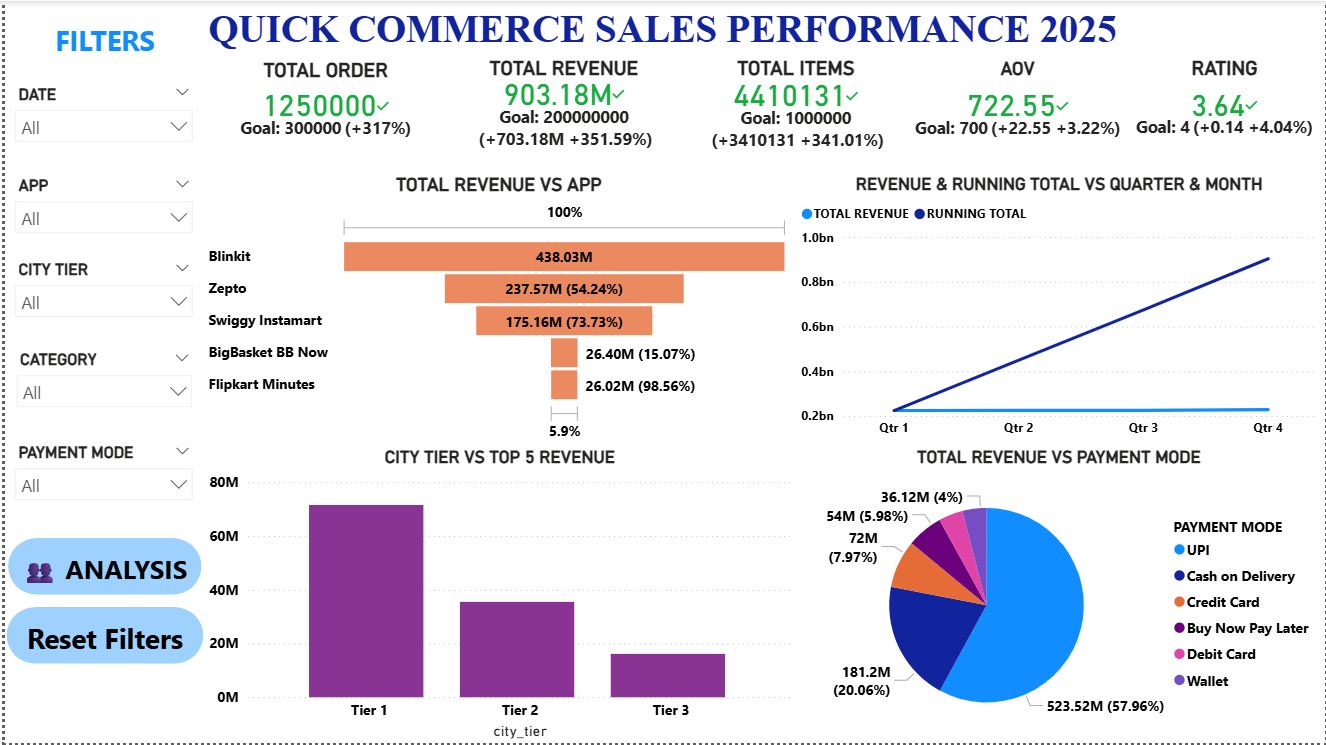

The page's visual inventory and layout, read from the dashboard file:
{"tool":"powerbi","page":{"name":"Home","canvas":[1280,720],"ordinal":0},"visuals":[{"type":"slicer","fields":{"Values":["qcommerce_orders_2025.app"]},"box":[0,217.3,192,72],"z":0},{"type":"slicer","fields":{"Values":["qcommerce_orders_2025.city_tier","qcommerce_orders_2025.city"]},"box":[0,299.3,192,72],"z":1000},{"type":"slicer","fields":{"Values":["qcommerce_orders_2025.category"]},"box":[2,387.3,190,74],"z":2000},{"type":"slicer","fields":{"Values":["DATE.Date.Variation.Date Hierarchy.Quarter","DATE.Date.Variation.Date Hierarchy.Month","DATE.Date.Variation.Date Hierarchy.Day"]},"box":[0,129.3,192,74],"z":3000},{"type":"textbox","box":[215,0,873.3,47],"z":4000},{"type":"kpi","title":"RATING","fields":{"Indicator":["calculations.RATING"],"TrendLine":["DATE.Date.Variation.Date Hierarchy.Year"],"Goal":["Targets.RATING T"]},"box":[1075.9,55.4,192.4,94.8],"z":5000},{"type":"kpi","title":"TOTAL ORDER ","fields":{"Indicator":["calculations.TOTAL ORDER"],"TrendLine":["DATE.Date.Variation.Date Hierarchy.Year"],"Goal":["Targets.TOT"]},"box":[212.8,55.4,192.4,94.8],"z":6000},{"type":"kpi","title":"TOTAL REVENUE ","fields":{"Indicator":["calculations.TOTAL REVENUE"],"TrendLine":["DATE.Date.Variation.Date Hierarchy.Year"],"Goal":["Targets.TR TARGET"]},"box":[425.7,55.4,207,94.8],"z":7000},{"type":"kpi","title":"TOTAL ITEMS","fields":{"Indicator":["calculations.TOTAL ITEMS"],"TrendLine":["DATE.Date.Variation.Date Hierarchy.Year"],"Goal":["Targets.TIT"]},"box":[653.1,55.4,191,94.8],"z":8000},{"type":"kpi","title":"AOV ","fields":{"Indicator":["calculations.AOV"],"TrendLine":["DATE.Date.Variation.Date Hierarchy.Year"],"Goal":["Targets.AOVT"]},"box":[864.5,55.4,191,94.8],"z":9000},{"type":"lineChart","title":" REVENUE & RUNNING TOTAL VS QUARTER & MONTH","fields":{"Y":["calculations.TOTAL REVENUE","select"],"Category":["DATE.Date.Variation.Date Hierarchy.Quarter","DATE.Date.Variation.Date Hierarchy.Month"]},"box":[767.7,168.1,511.8,265],"z":10000},{"type":"slicer","fields":{"Values":["qcommerce_orders_2025.payment_mode"]},"box":[0,477.3,192,72],"z":11000},{"type":"funnel","title":"TOTAL REVENUE VS APP","fields":{"Category":["qcommerce_orders_2025.app"],"Y":["calculations.TOTAL REVENUE"]},"box":[192.3,168.1,573.9,265],"z":12000},{"type":"columnChart","title":"CITY TIER VS TOP 5 REVENUE","fields":{"Category":["qcommerce_orders_2025.city_tier"],"Y":["calculations.top5"]},"box":[192,432,576,288],"z":13000},{"type":"pieChart","title":"TOTAL REVENUE VS PAYMENT MODE","fields":{"Y":["calculations.TOTAL REVENUE"],"Category":["qcommerce_orders_2025.payment_mode"]},"box":[766,432,514,288],"z":14000},{"type":"actionButton","title":"Reset Filters","box":[0,0,177.9,45.2],"z":15000},{"type":"actionButton","box":[1091.7,0,177,45],"z":16000},{"type":"textbox","box":[0,83.3,193.3,46.7],"z":17000}]}

Visuals, with their boxes in screenshot pixels (x1, y1, x2, y2), scaled from the page's 1280x720 canvas onto the 1326x745 screenshot:
slicer - qcommerce_orders_2025.app: pyautogui.locateOnScreen(0, 225, 199, 299)
slicer - qcommerce_orders_2025.city_tier x qcommerce_orders_2025.city: pyautogui.locateOnScreen(0, 310, 199, 384)
slicer - qcommerce_orders_2025.category: pyautogui.locateOnScreen(2, 401, 199, 477)
slicer - DATE.Date.Variation.Date Hierarchy.Quarter x DATE.Date.Variation.Date Hierarchy.Month: pyautogui.locateOnScreen(0, 134, 199, 210)
textbox: pyautogui.locateOnScreen(223, 0, 1127, 49)
"RATING" kpi: pyautogui.locateOnScreen(1115, 57, 1314, 155)
"TOTAL ORDER " kpi: pyautogui.locateOnScreen(220, 57, 420, 155)
"TOTAL REVENUE " kpi: pyautogui.locateOnScreen(441, 57, 655, 155)
"TOTAL ITEMS" kpi: pyautogui.locateOnScreen(677, 57, 874, 155)
"AOV " kpi: pyautogui.locateOnScreen(896, 57, 1093, 155)
" REVENUE & RUNNING TOTAL VS QUARTER & MONTH" lineChart: pyautogui.locateOnScreen(795, 174, 1325, 448)
slicer - qcommerce_orders_2025.payment_mode: pyautogui.locateOnScreen(0, 494, 199, 568)
"TOTAL REVENUE VS APP" funnel: pyautogui.locateOnScreen(199, 174, 794, 448)
"CITY TIER VS TOP 5 REVENUE" columnChart: pyautogui.locateOnScreen(199, 447, 796, 744)
"TOTAL REVENUE VS PAYMENT MODE" pieChart: pyautogui.locateOnScreen(794, 447, 1325, 744)
"Reset Filters" actionButton: pyautogui.locateOnScreen(0, 0, 184, 47)
actionButton: pyautogui.locateOnScreen(1131, 0, 1314, 47)
textbox: pyautogui.locateOnScreen(0, 86, 200, 135)
